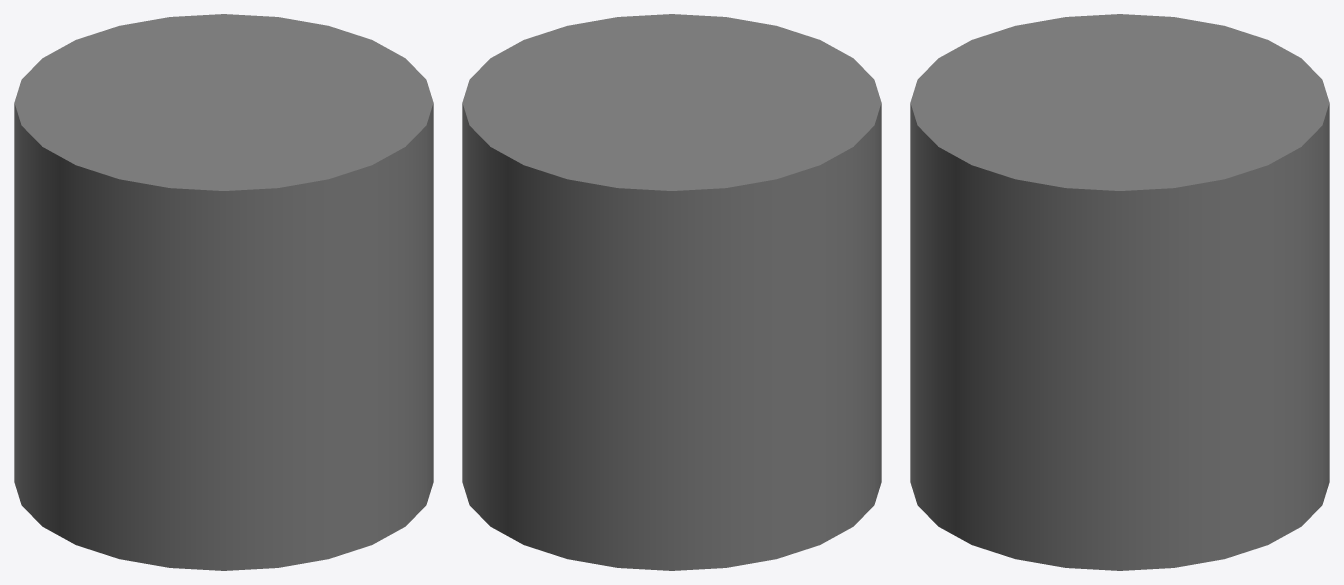
The model's file is hitbox.obj.
3 views of the same model, side by side, from view 1: azimuth 30°, elevation 25°; view 2: azimuth 150°, elevation 25°; view 3: azimuth 270°, elevation 25° (orthographic).
Parts seen in each view (by area): view 1: pCylinder1; view 2: pCylinder1; view 3: pCylinder1.
Part boxes in pixels (x1,y1,x2,y2): pCylinder1: (14,14,433,570); pCylinder1: (462,14,881,570); pCylinder1: (910,14,1329,570).
Bounding box in the file's own units: 1 × 1 × 1.
Materials: 1 (1 with a texture image).
